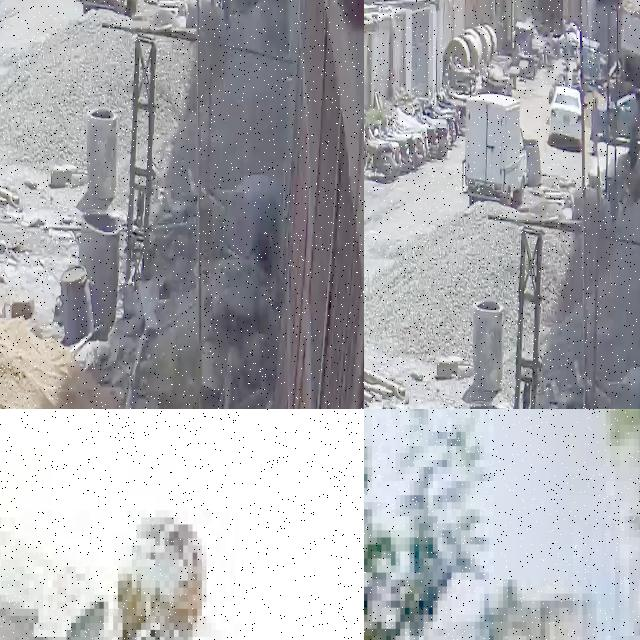bike: (0, 531, 272, 640), (364, 136, 394, 180)
car: (597, 93, 640, 152), (550, 86, 582, 147)
